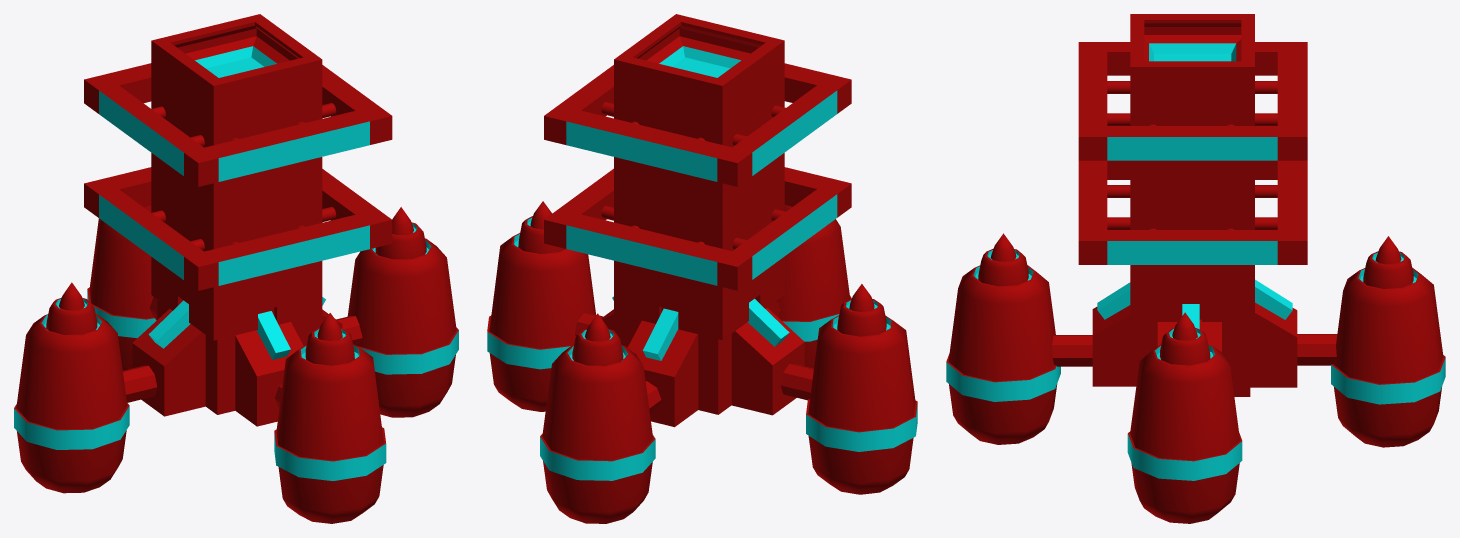
Rendered from GJ_Envrio_Kit_Buildings_HL_31-07-2019_v4.fbx.
3 renders of one model, left to right at view 1: azimuth 30°, elevation 25°; view 2: azimuth 150°, elevation 25°; view 3: azimuth 270°, elevation 25°, orthographic.
Parts seen in each view (by area): view 1: Building_4_Cube_Tower1; view 2: Building_4_Cube_Tower1; view 3: Building_4_Cube_Tower1.
Part boxes in pixels (x1=…): Building_4_Cube_Tower1: x1=14, y1=14, x2=458, y2=523; Building_4_Cube_Tower1: x1=487, y1=14, x2=917, y2=523; Building_4_Cube_Tower1: x1=946, y1=14, x2=1445, y2=523.
Size of the model in its own units: 1884 by 1687 by 1922.
